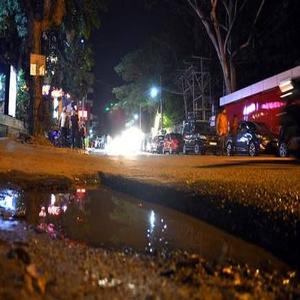pothole: (1, 165, 300, 299)
